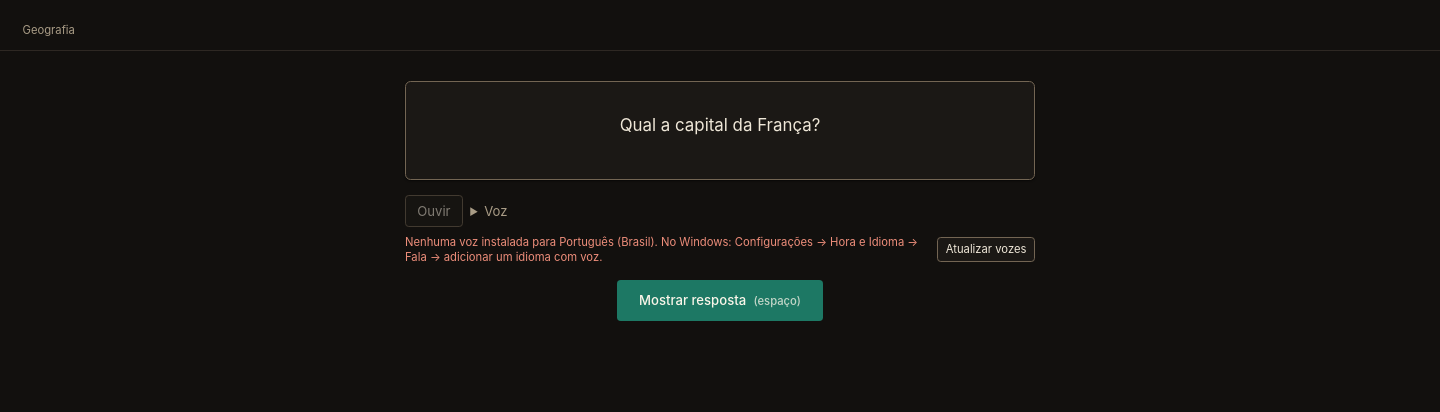
Test case: EstudoSessao — resumo da sessão › ao esvaziar a fila depois de responder, mostra cartões, tempo, XP e o que vence amanhã
This screenshot has width=1440, height=412.
Check: the text "Qual a capital da França?" is shown, box [620,114,820,134]
Click the button "Mostrar resposta (espaço)": (720, 300) [617,280,823,321]
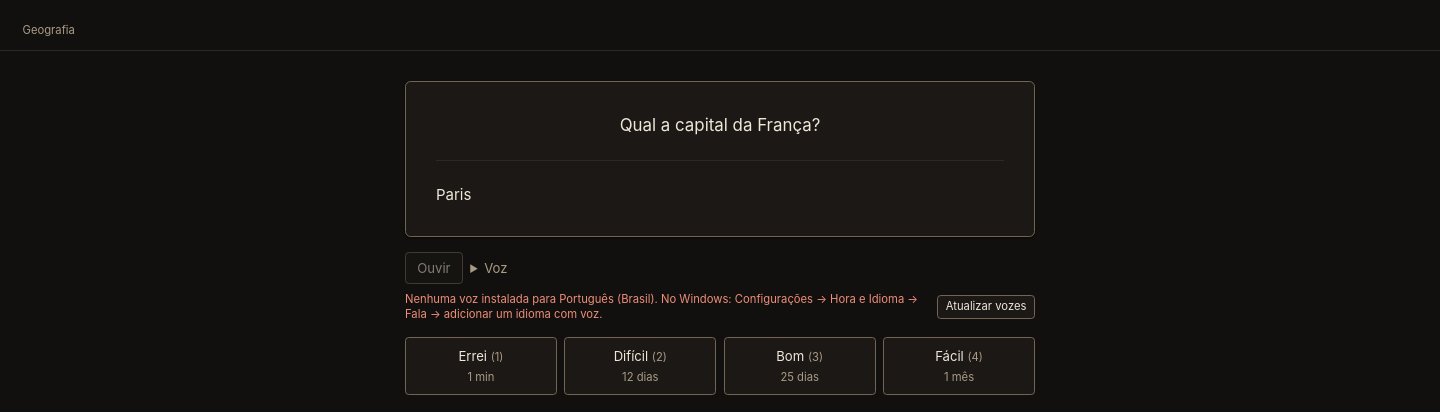
Click the button "Bom (3) 25 dias": (800, 366) [724,337,876,395]
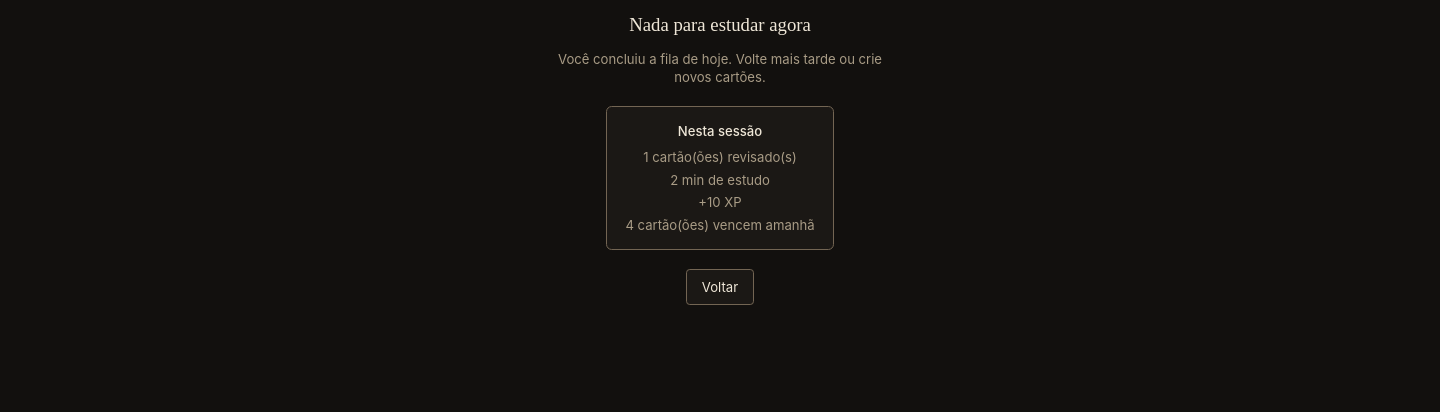
Check: the element named "Resumo da sessão" shows "1 cartão(ões) revisado(s)", box [643,149,797,165]
Check: the element named "Resumo da sessão" shows "2 min de estudo", box [670,172,770,188]
Check: the element named "Resumo da sessão" shows "+10 XP", box [698,194,742,210]
